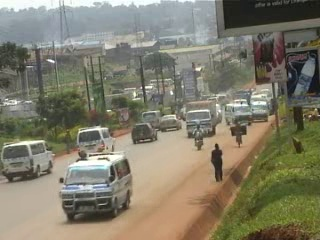Car: (128, 119, 159, 144), (155, 113, 183, 132)
Motorcycle: (188, 122, 206, 152)
